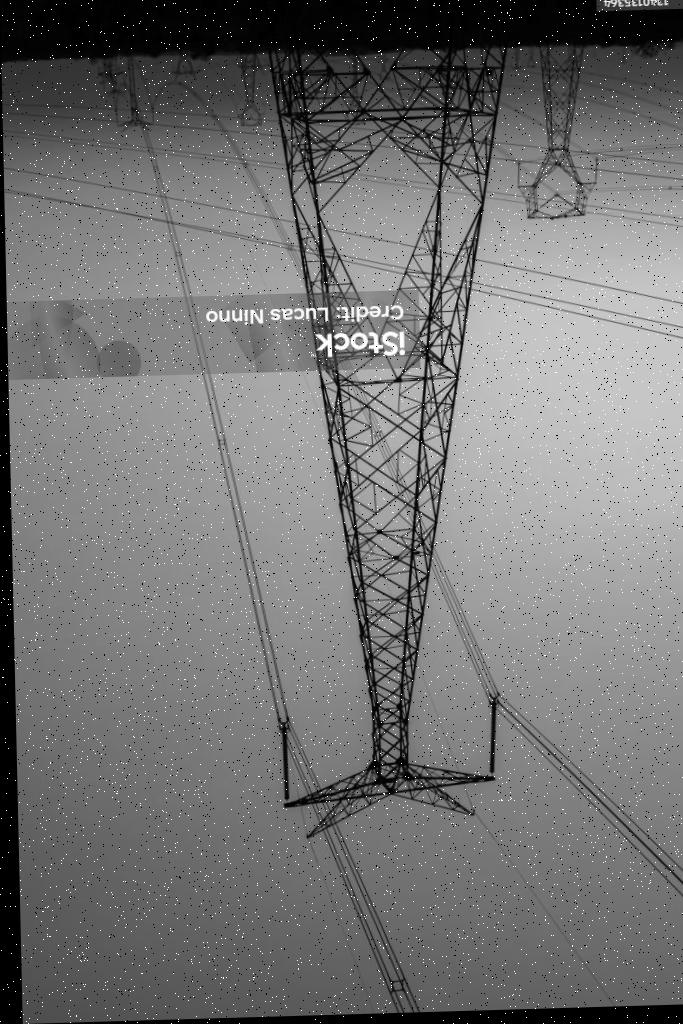tower: (259, 40, 512, 844), (502, 43, 607, 247)
